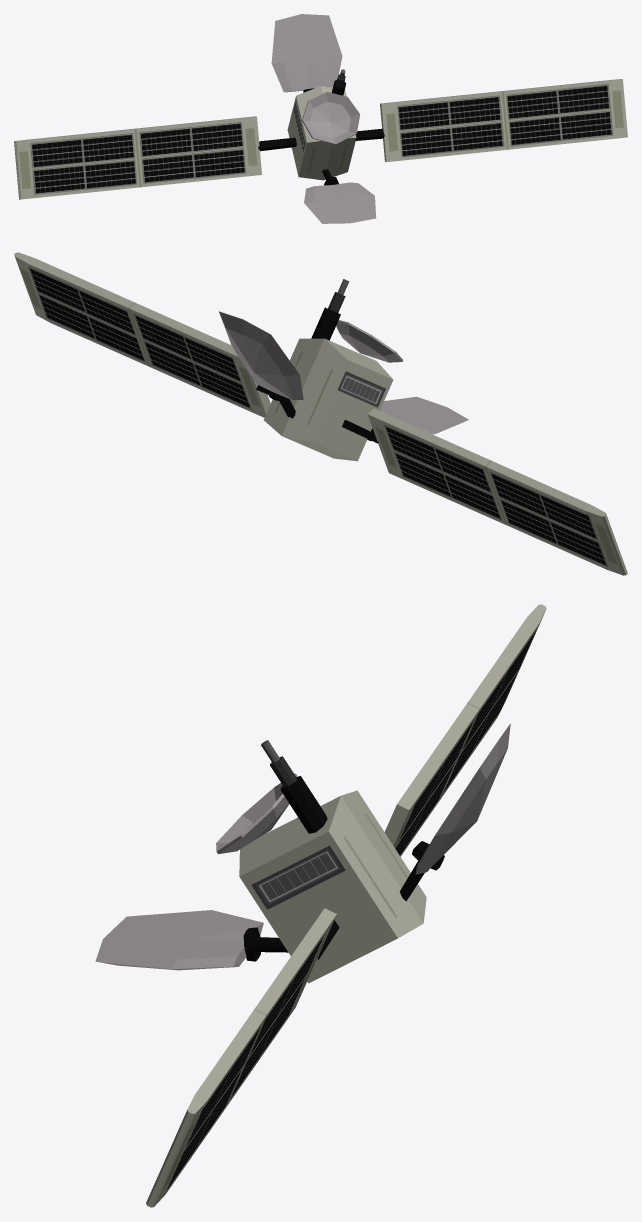
Rendered from satelite.glb.
3 renders of one model, top to bottom at view 1: azimuth 30°, elevation 25°; view 2: azimuth 150°, elevation 25°; view 3: azimuth 270°, elevation 25°, orthographic. The views are drawn at different scales.
Parts seen in each view (by area): view 1: Cube.001; view 2: Cube.001; view 3: Cube.001.
Part boxes in pixels (left/top/right/bottom): Cube.001: left=14, top=14, right=627, bottom=223; Cube.001: left=14, top=252, right=627, bottom=575; Cube.001: left=95, top=604, right=546, bottom=1207.
Size of the model in its own units: 249 by 59.36 by 92.43.
1 material, 1 textured.
